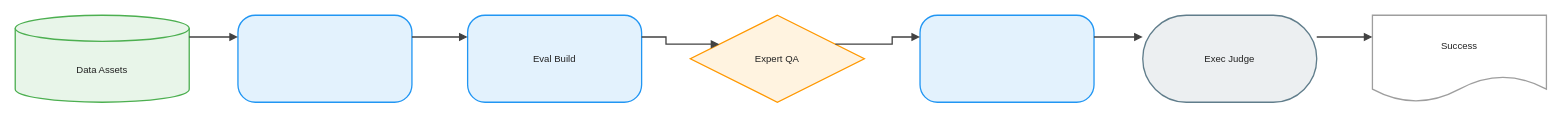
Some shapes in this 1563 by 118 pixel diagram are drawn without their labels. The box of each missing label's shape, as (x1, y1, x2, y2) in pixels:
Agent Run: (919, 14, 1094, 102)
Task Design: (237, 14, 412, 102)
